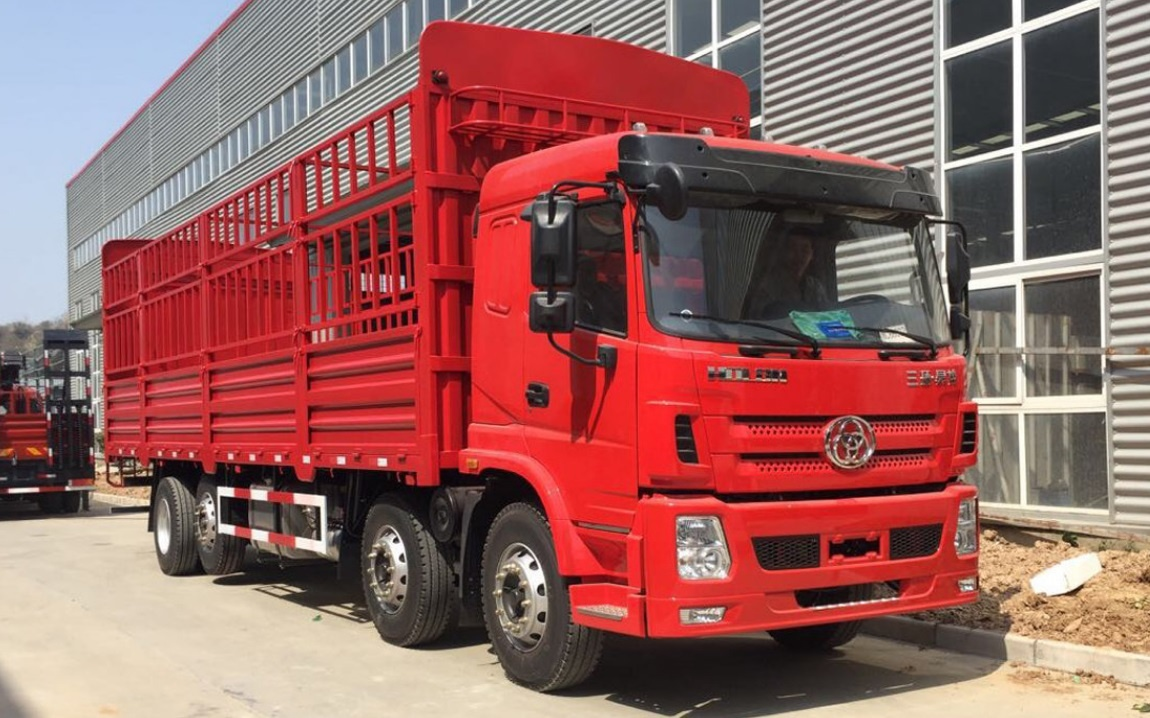heavy truck: (95, 60, 1000, 689)
